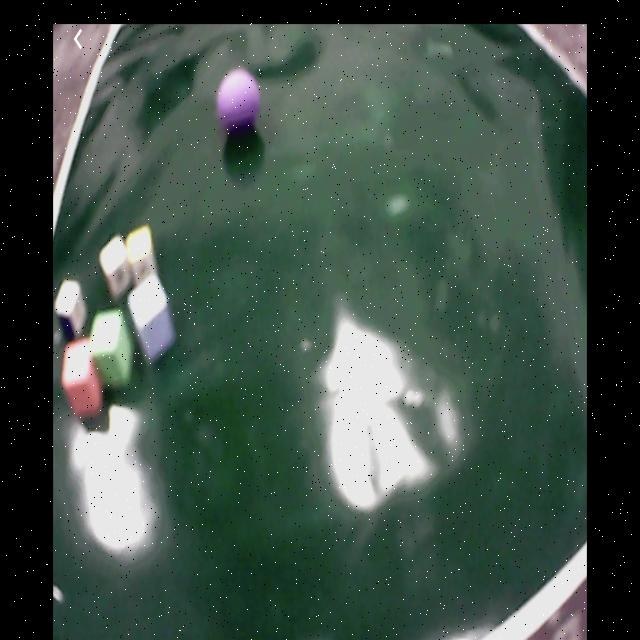ball: (216, 71, 261, 134)
